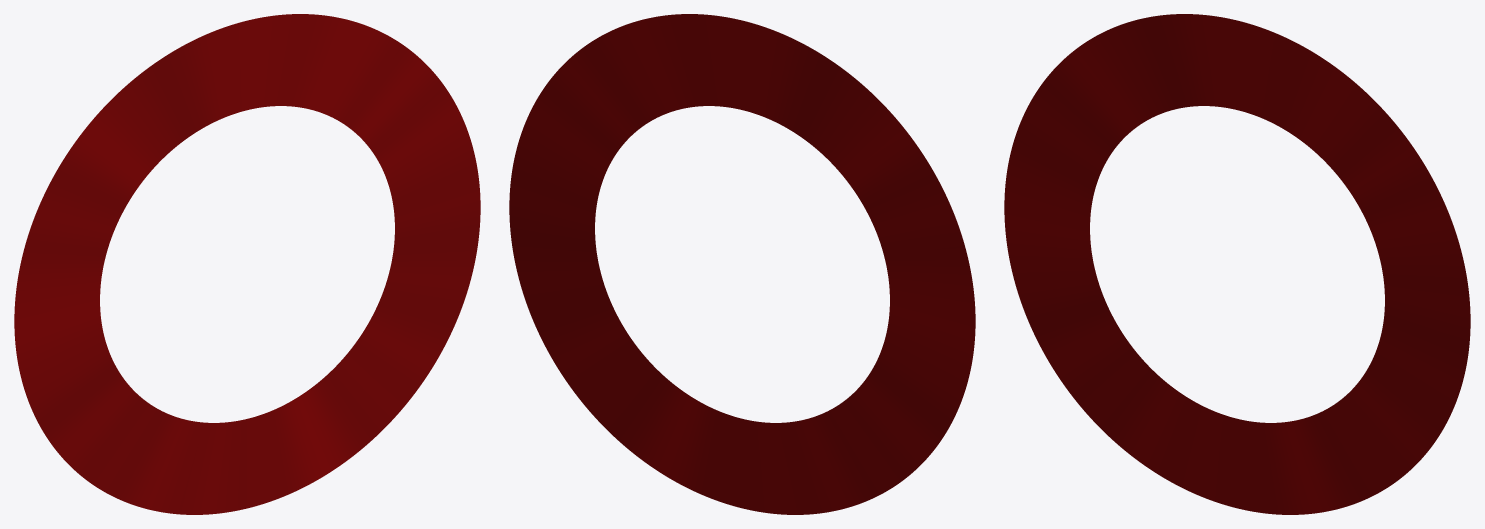
The model's file is WaveRingSeaDarkening.fbx.
The picture shows the model from 3 angles, left to right: view 1: azimuth 30°, elevation 25°; view 2: azimuth 150°, elevation 25°; view 3: azimuth 330°, elevation 25°; orthographic projection.
Parts seen in each view (by area): view 1: WaveRingSeaDarkening; view 2: WaveRingSeaDarkening; view 3: WaveRingSeaDarkening.
Part boxes in pixels (x1,y1,x2,y2): WaveRingSeaDarkening: (14, 14, 480, 514); WaveRingSeaDarkening: (509, 14, 975, 514); WaveRingSeaDarkening: (1004, 14, 1470, 514).
Bounding box in the file's own units: 20000 × 20000 × 0.
